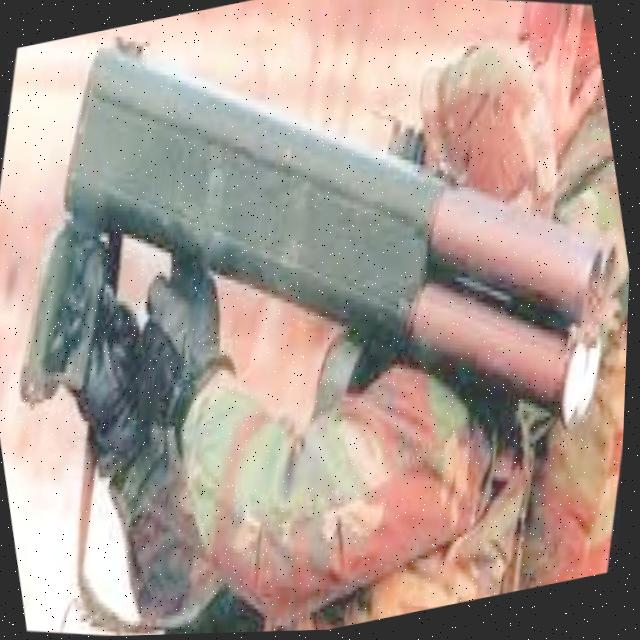rocket: (0, 0, 640, 554)
